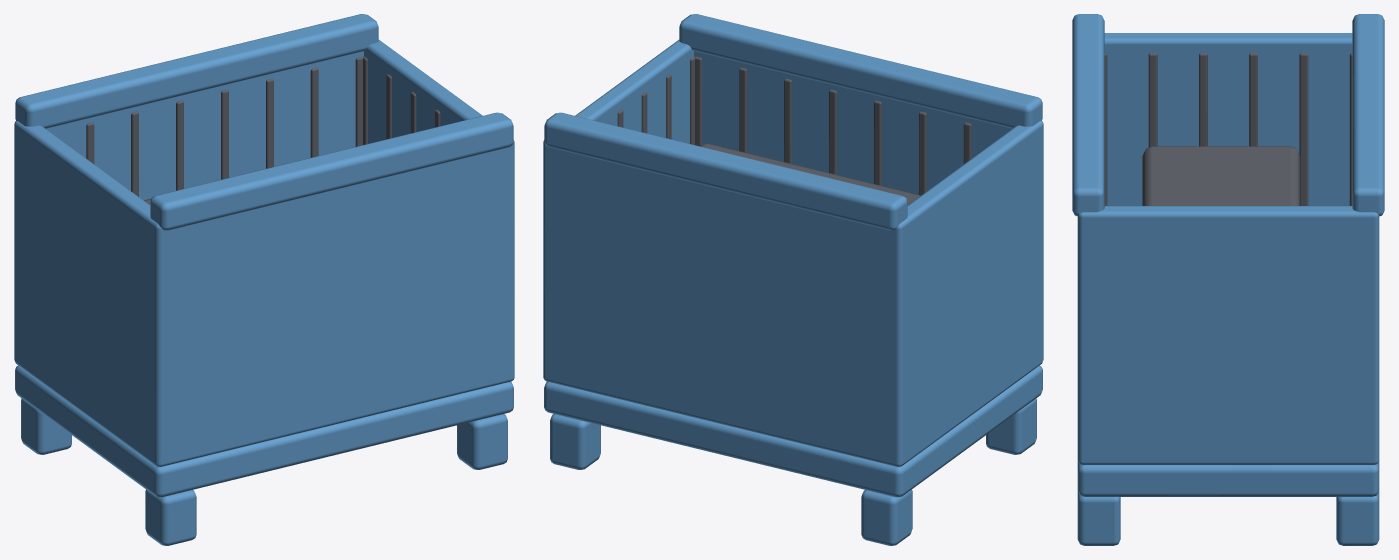
Rendered from mesh-stillage.glb.
3 views of the same model, side by side, from view 1: azimuth 30°, elevation 25°; view 2: azimuth 150°, elevation 25°; view 3: azimuth 270°, elevation 25° (orthographic). The views are drawn at different scales.
Visible parts, largest first — view 1: mesh-stillage; view 2: mesh-stillage; view 3: mesh-stillage.
Part boxes in pixels (x1,y1,x2,y2): mesh-stillage: [14, 14, 514, 545]; mesh-stillage: [543, 14, 1043, 545]; mesh-stillage: [1072, 14, 1384, 545].
Bounding box in the file's own units: 1.2 × 1.11 × 0.8699.
